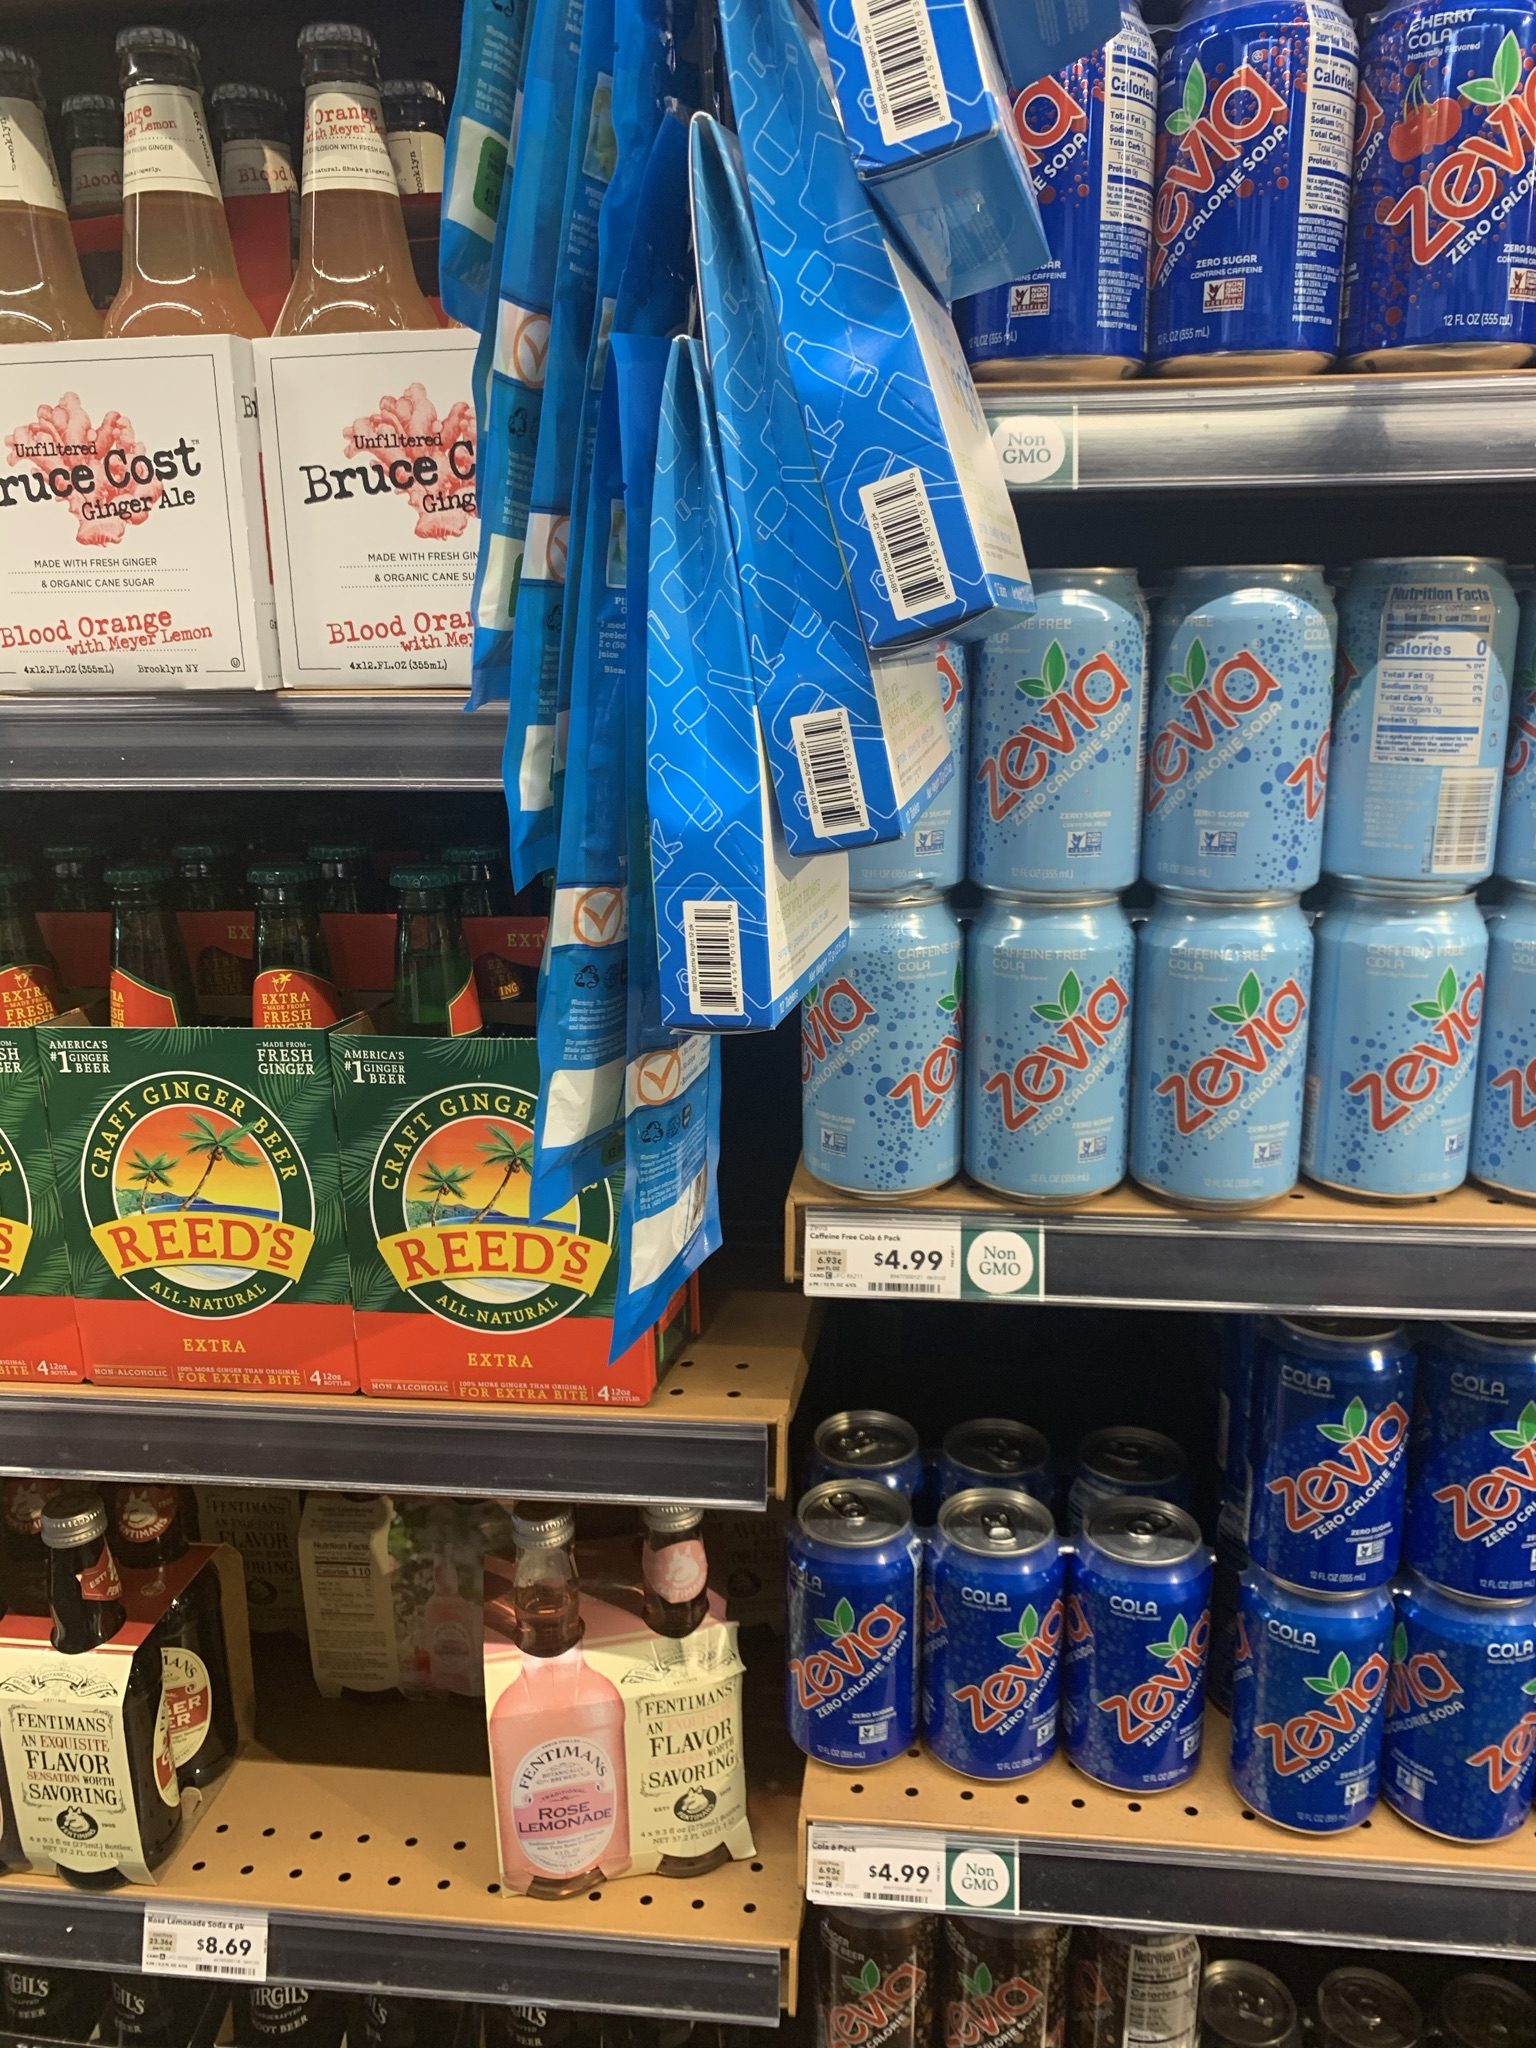zevia soda: (1425, 1324, 1536, 1859), (1276, 1329, 1388, 1854), (1170, 2, 1334, 340), (992, 589, 1144, 935), (1368, 560, 1507, 905), (1399, 6, 1536, 348), (1179, 581, 1334, 876), (1342, 914, 1488, 1193), (978, 943, 1128, 1209), (1163, 921, 1294, 1179), (812, 939, 949, 1184), (1083, 1509, 1207, 1771), (937, 1505, 1058, 1766), (803, 1524, 929, 1743)
